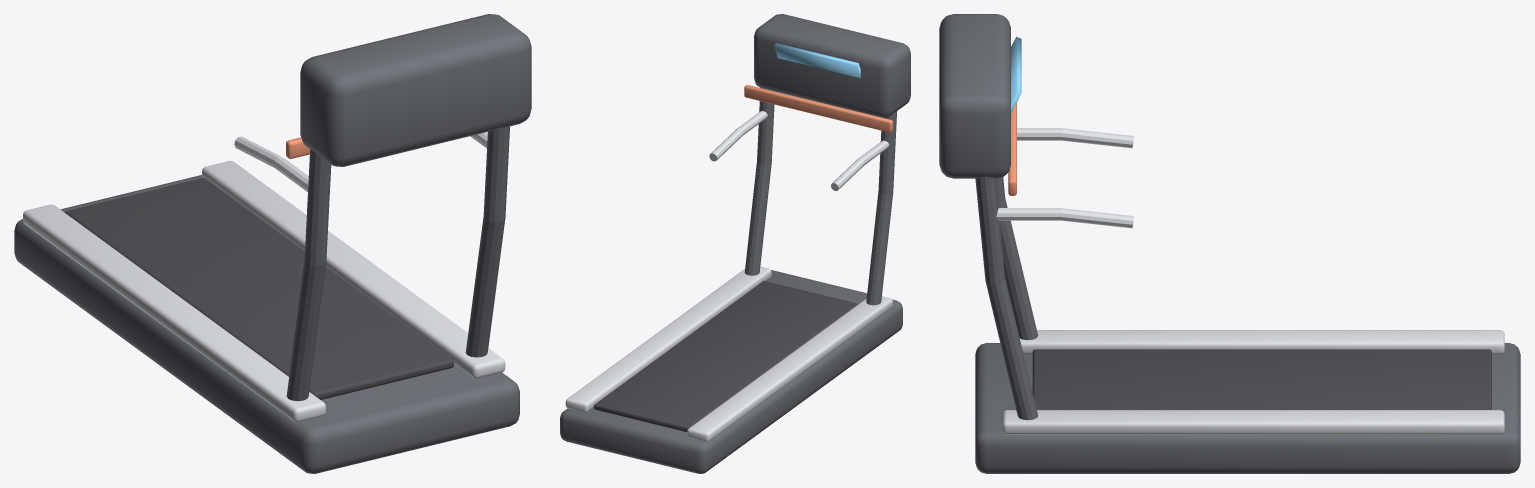
File: gym_treadmill.glb
3 renders of one model, left to right at view 1: azimuth 30°, elevation 25°; view 2: azimuth 150°, elevation 25°; view 3: azimuth 270°, elevation 25°, orthographic. The views are drawn at different scales.
Visible parts, largest first — view 1: gym_treadmill; view 2: gym_treadmill; view 3: gym_treadmill.
Boxes of the visible parts, box(x1,y1,x2,y2) form: gym_treadmill: box(14, 14, 531, 473); gym_treadmill: box(560, 14, 910, 473); gym_treadmill: box(939, 14, 1520, 473).
Size of the model in its own units: 0.8 by 1.51 by 2.02.
